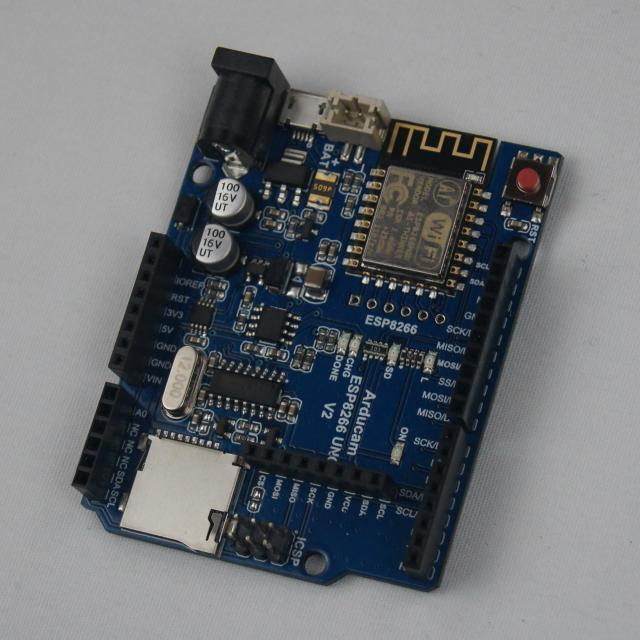Arduino Uno Camera Shield: (73, 49, 563, 590)
